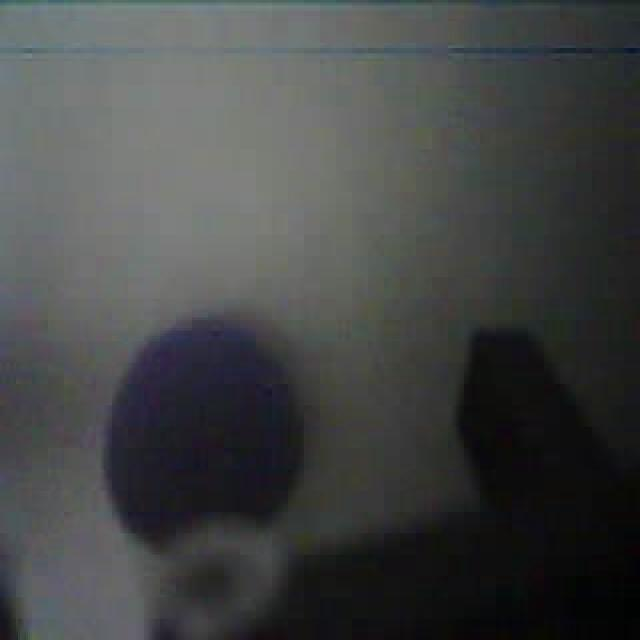blue_ball: (100, 312, 306, 544)
